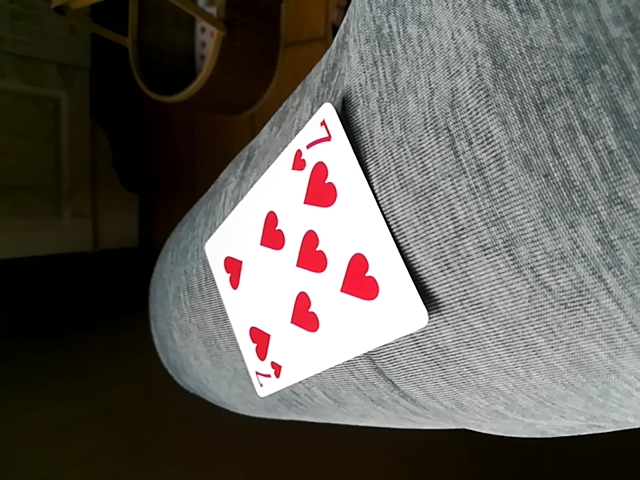hx 7: (198, 102, 428, 406)
